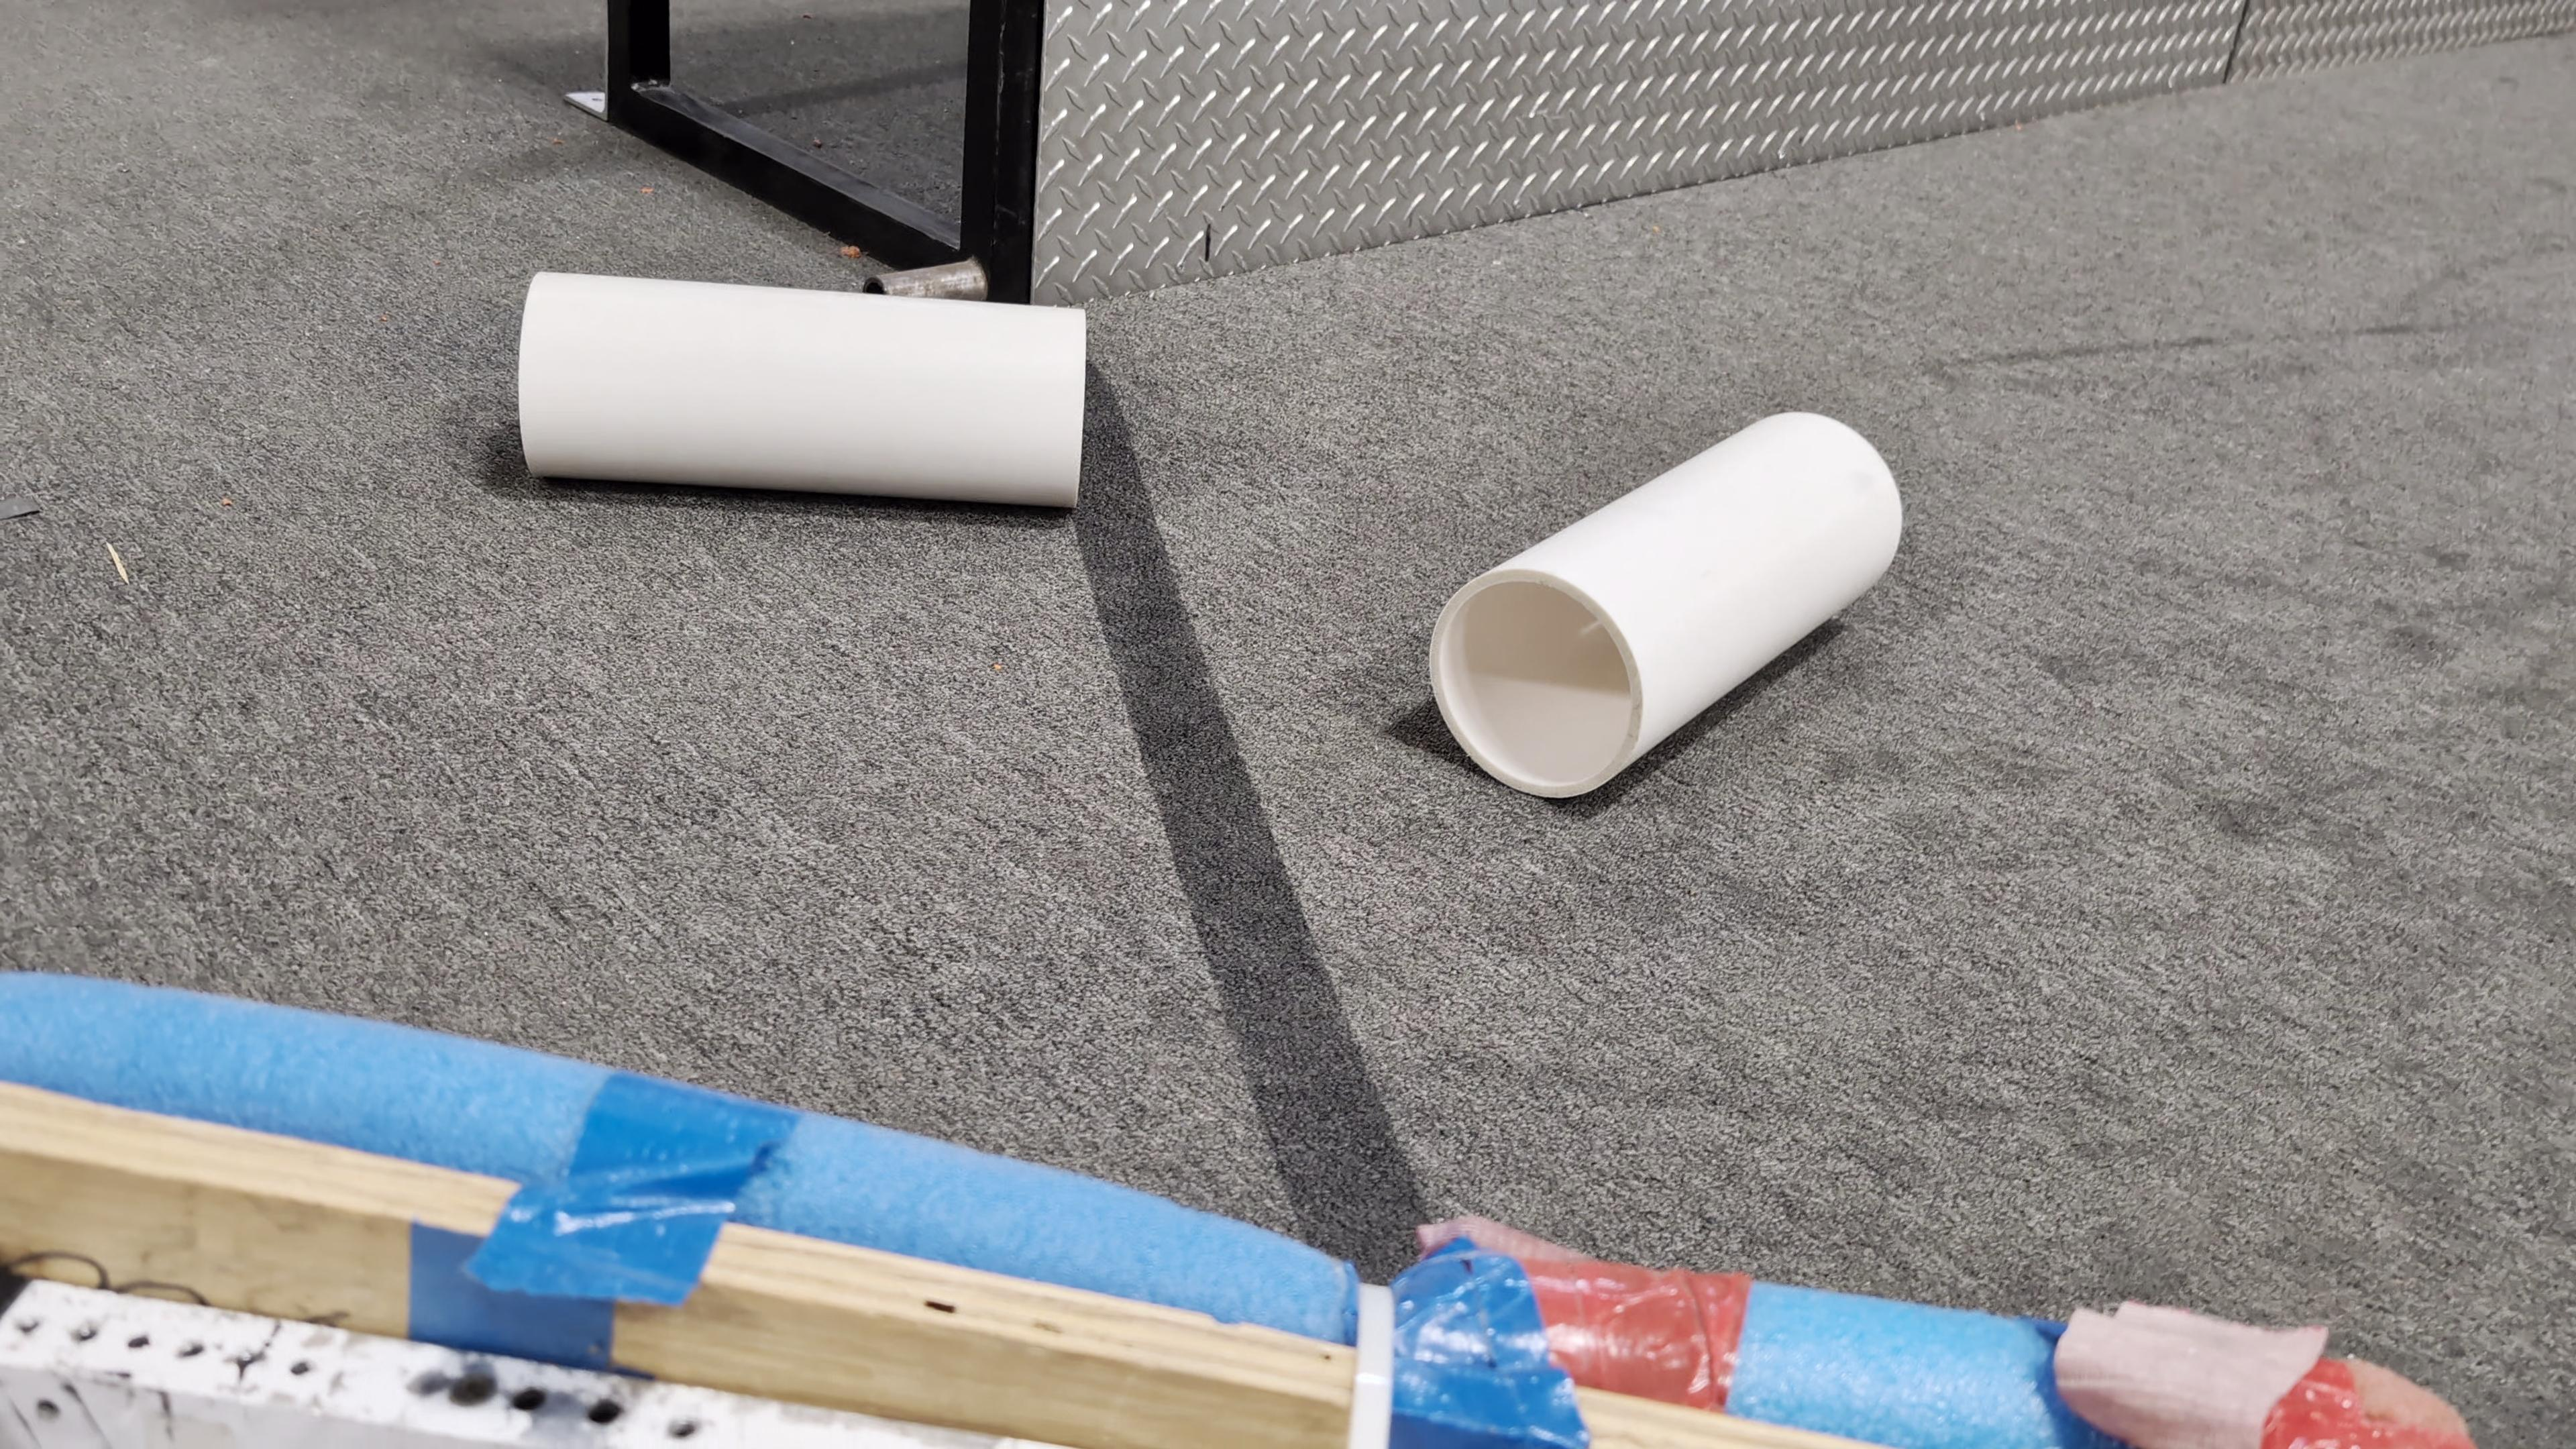coral: (1428, 407, 1906, 797), (515, 266, 1093, 508)
